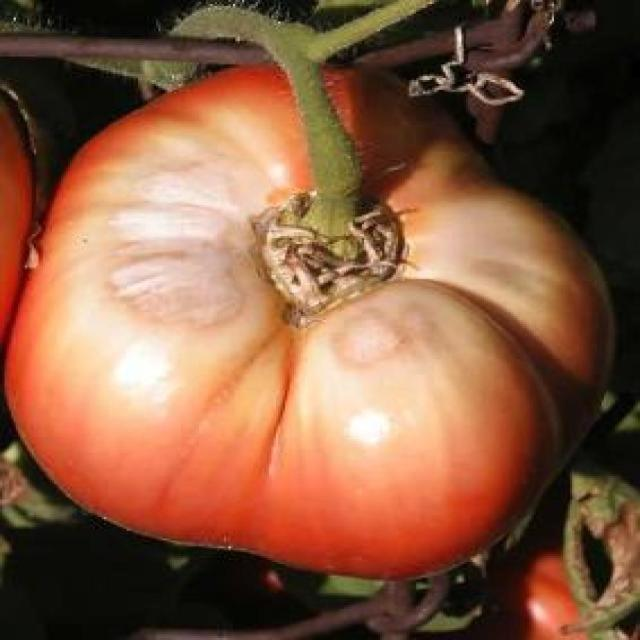Sunscald Fruit: (81, 57, 325, 234)
